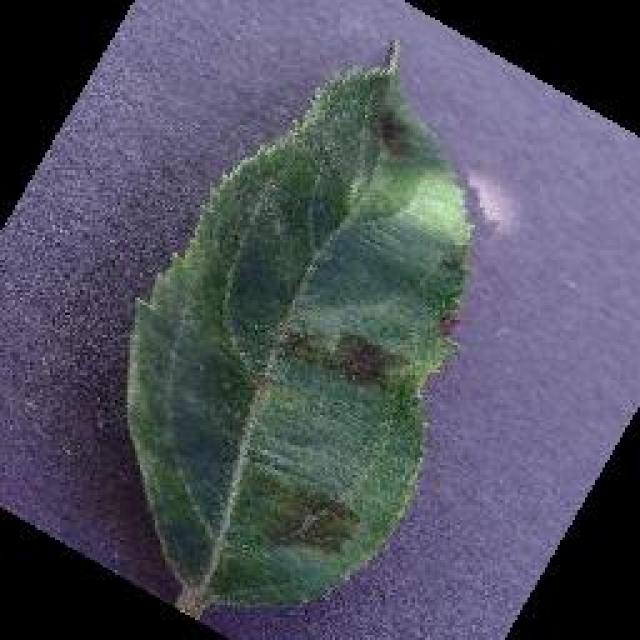apple scab disease: (120, 35, 478, 615)
